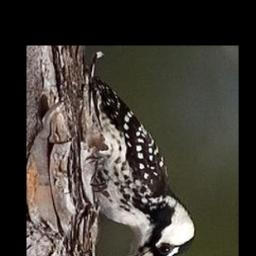Woodpecker: (79, 77, 200, 256)
